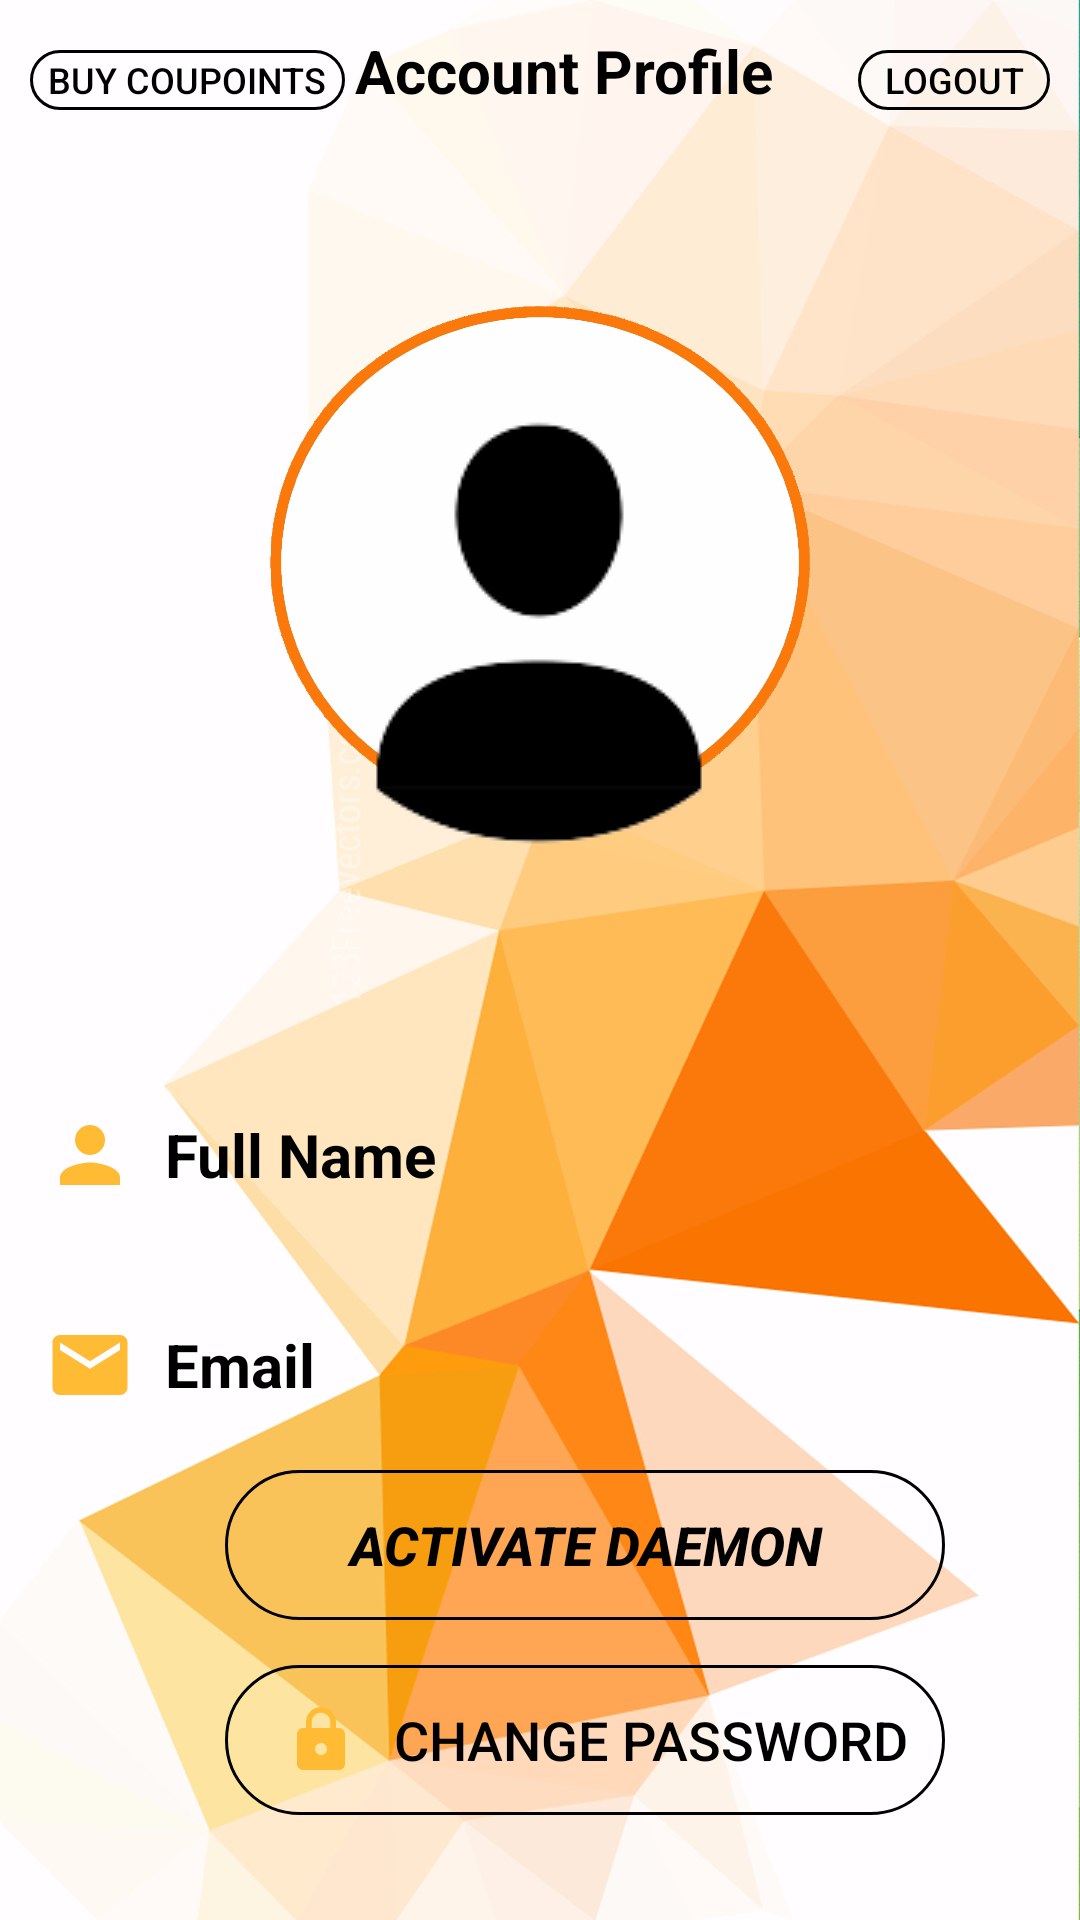

Screen size 1080 x 1920. Icon name, then its box in pixels as (x1, y1, x2, y2):
person: (60, 1125, 120, 1185)
